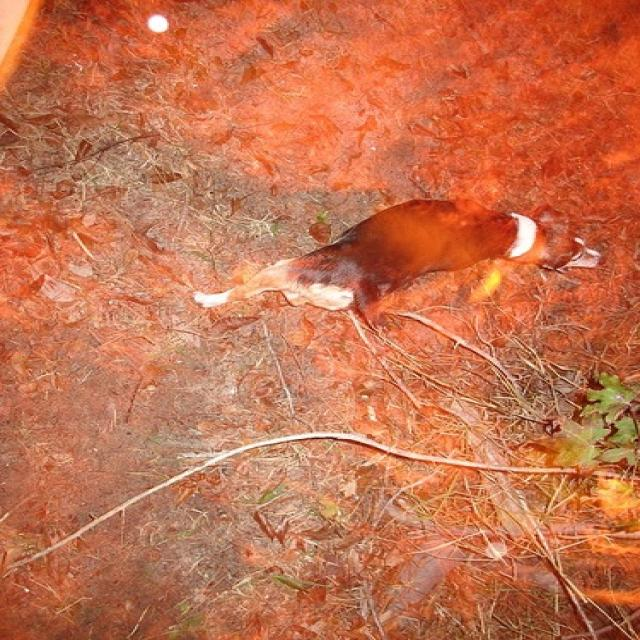dog: (186, 196, 609, 317)
